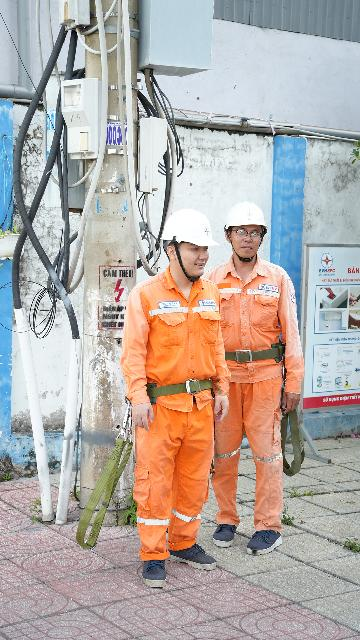harness: (139, 370, 220, 408), (210, 339, 296, 368)
helmet: (151, 207, 222, 250), (216, 195, 276, 233)
shoes: (161, 540, 223, 578), (241, 518, 289, 557), (199, 514, 243, 547), (140, 554, 172, 591)
